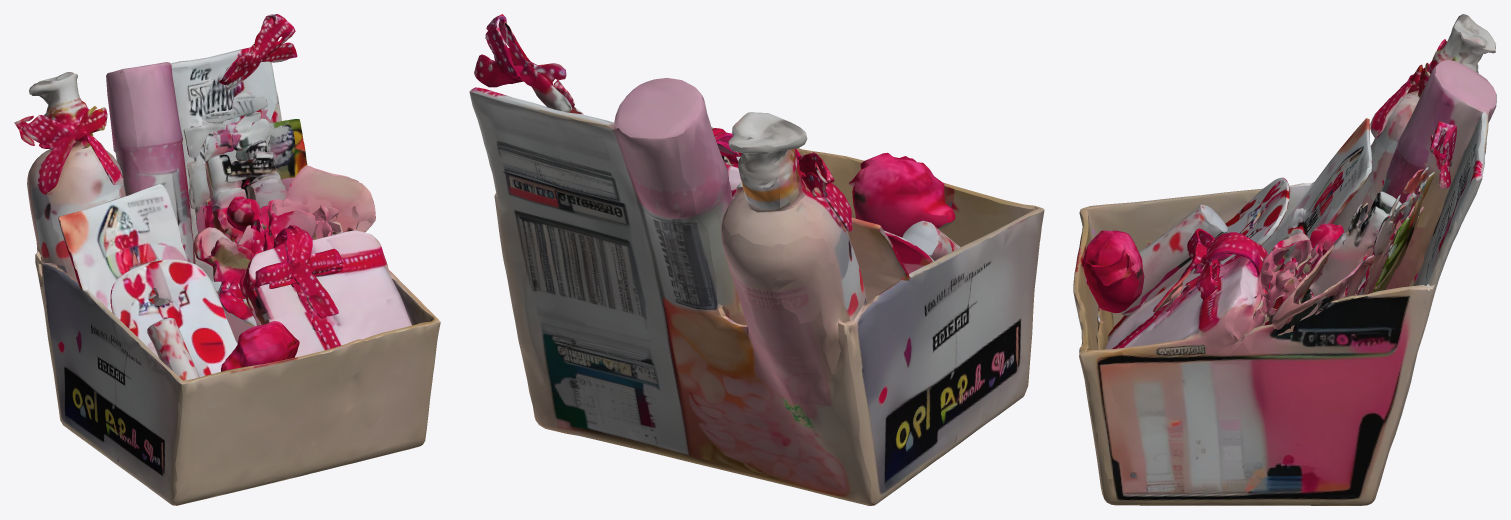
The model's file is hamper1 (1)-compressed.glb.
3 renders of one model, left to right at view 1: azimuth 30°, elevation 25°; view 2: azimuth 150°, elevation 25°; view 3: azimuth 270°, elevation 25°, orthographic. The views are drawn at different scales.
Visible parts, largest first — view 1: textured_mesh; view 2: textured_mesh; view 3: textured_mesh.
Boxes of the visible parts, box(x1,y1,x2,y2) form: textured_mesh: box(14, 14, 440, 505); textured_mesh: box(469, 14, 1044, 505); textured_mesh: box(1073, 14, 1496, 505).
Size of the model in its own units: 1.78 by 1.99 by 1.99.
Materials: 1 (1 with a texture image).
